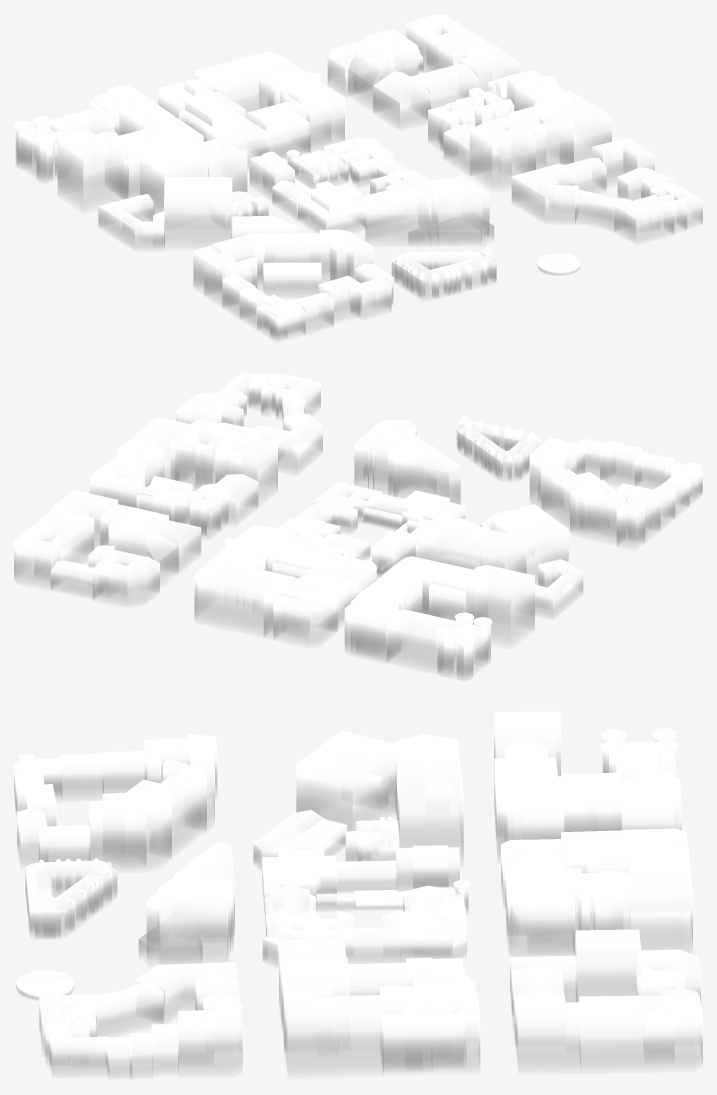
Rendered from Pamplona_3D_Test.glb.
3 views of the same model, one above another, from view 1: azimuth 30°, elevation 25°; view 2: azimuth 150°, elevation 25°; view 3: azimuth 270°, elevation 25° (orthographic). The views are drawn at different scales.
Visible parts, largest first — view 1: pCube1181, pCube1224, pCube1228, pCube1317, pCube1452, pCube1287, pCube1277, pCube1251, pCube1289, pCube1454, pCube1281, pCube1226 (+62 smaller); view 2: pCube1251, pCube1228, pCube1281, pCube1181, pCube1317, pCube1287, pCube1224, pCube1277, pCube1248, pCube1453, pCube1452, pCube1179 (+68 smaller); view 3: pCube1281, pCube1224, pCube1454, pCube1251, pCube1228, pCube1289, pCube1448, pCube1867, pCube1317, pCube1280, pCube1253, pCube1277 (+72 smaller).
Boxes of the visible parts, left/top/right/bottom form: pCube1181: left=57, top=130, right=128, bottom=206; pCube1224: left=164, top=177, right=232, bottom=244; pCube1228: left=140, top=137, right=247, bottom=214; pCube1317: left=391, top=251, right=496, bottom=297; pCube1452: left=469, top=115, right=535, bottom=185; pCube1287: left=365, top=184, right=431, bottom=241; pCube1277: left=348, top=28, right=418, bottom=105; pCube1251: left=204, top=51, right=299, bottom=112; pCube1289: left=424, top=175, right=489, bottom=239; pCube1454: left=534, top=91, right=611, bottom=162; pCube1281: left=406, top=14, right=490, bottom=71; pCube1226: left=98, top=193, right=164, bottom=248; pCube1251: left=194, top=548, right=284, bottom=631; pCube1228: left=418, top=518, right=526, bottom=573; pCube1281: left=14, top=508, right=94, bottom=585; pCube1181: left=465, top=565, right=534, bottom=641; pCube1317: left=458, top=421, right=544, bottom=478; pCube1287: left=393, top=441, right=460, bottom=503; pCube1224: left=491, top=504, right=568, bottom=583; pCube1277: left=108, top=507, right=178, bottom=581; pCube1248: left=273, top=588, right=337, bottom=643; pCube1453: left=174, top=418, right=237, bottom=488; pCube1452: left=215, top=433, right=277, bottom=500; pCube1179: left=387, top=609, right=457, bottom=669; pCube1281: left=579, top=995, right=702, bottom=1067; pCube1224: left=296, top=730, right=397, bottom=831; pCube1454: left=284, top=987, right=383, bottom=1071; pCube1251: left=593, top=851, right=692, bottom=949; pCube1228: left=395, top=733, right=463, bottom=859; pCube1289: left=146, top=877, right=233, bottom=958; pCube1448: left=383, top=989, right=480, bottom=1068; pCube1867: left=88, top=792, right=171, bottom=865; pCube1317: left=25, top=860, right=117, bottom=934; pCube1280: left=515, top=990, right=580, bottom=1067; pCube1253: left=506, top=876, right=574, bottom=954; pCube1277: left=575, top=929, right=640, bottom=1001.
Size of the model in its own units: 0.0311 by 0.00425 by 0.0305.
1 material, 1 textured.
